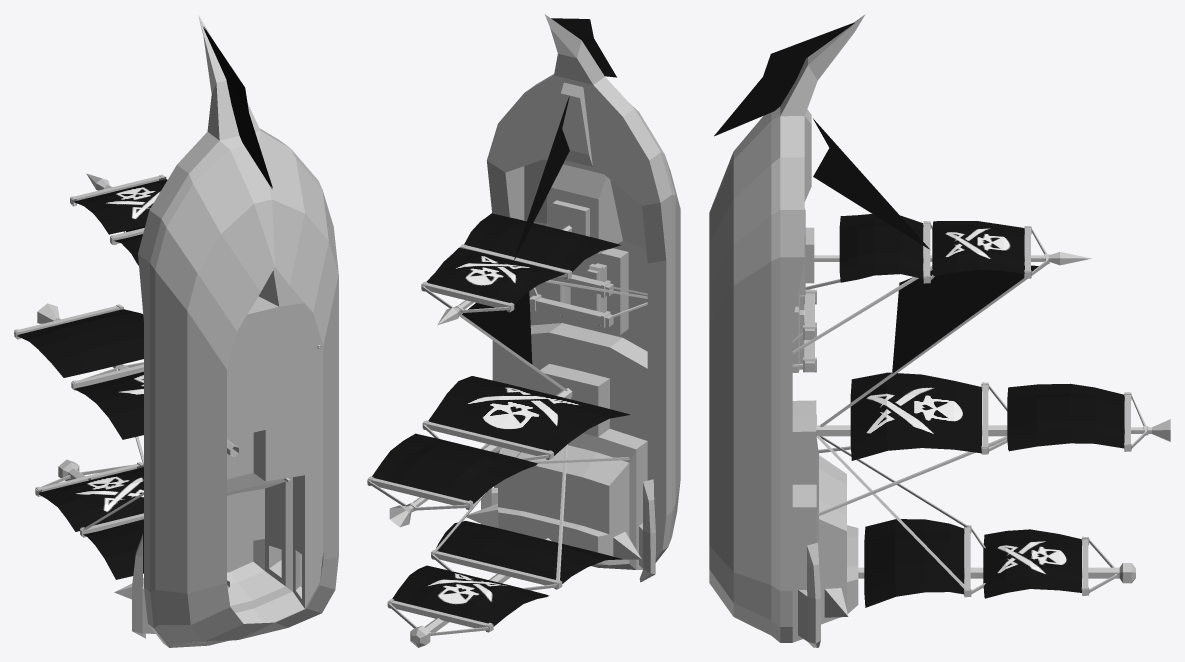
Rendered from pirate_my_2.fbx.
The picture shows the model from 3 angles, left to right: view 1: azimuth 30°, elevation 25°; view 2: azimuth 150°, elevation 25°; view 3: azimuth 270°, elevation 25°; orthographic projection. The views are drawn at different scales.
Parts seen in each view (by area): view 1: Cube.197; view 2: Cube.197; view 3: Cube.197.
Part boxes in pixels (x1,y1,x2,y2): Cube.197: (14, 15, 338, 647); Cube.197: (367, 14, 680, 647); Cube.197: (709, 14, 1170, 647).
Bounding box in the file's own units: 438 × 1343 × 934.
